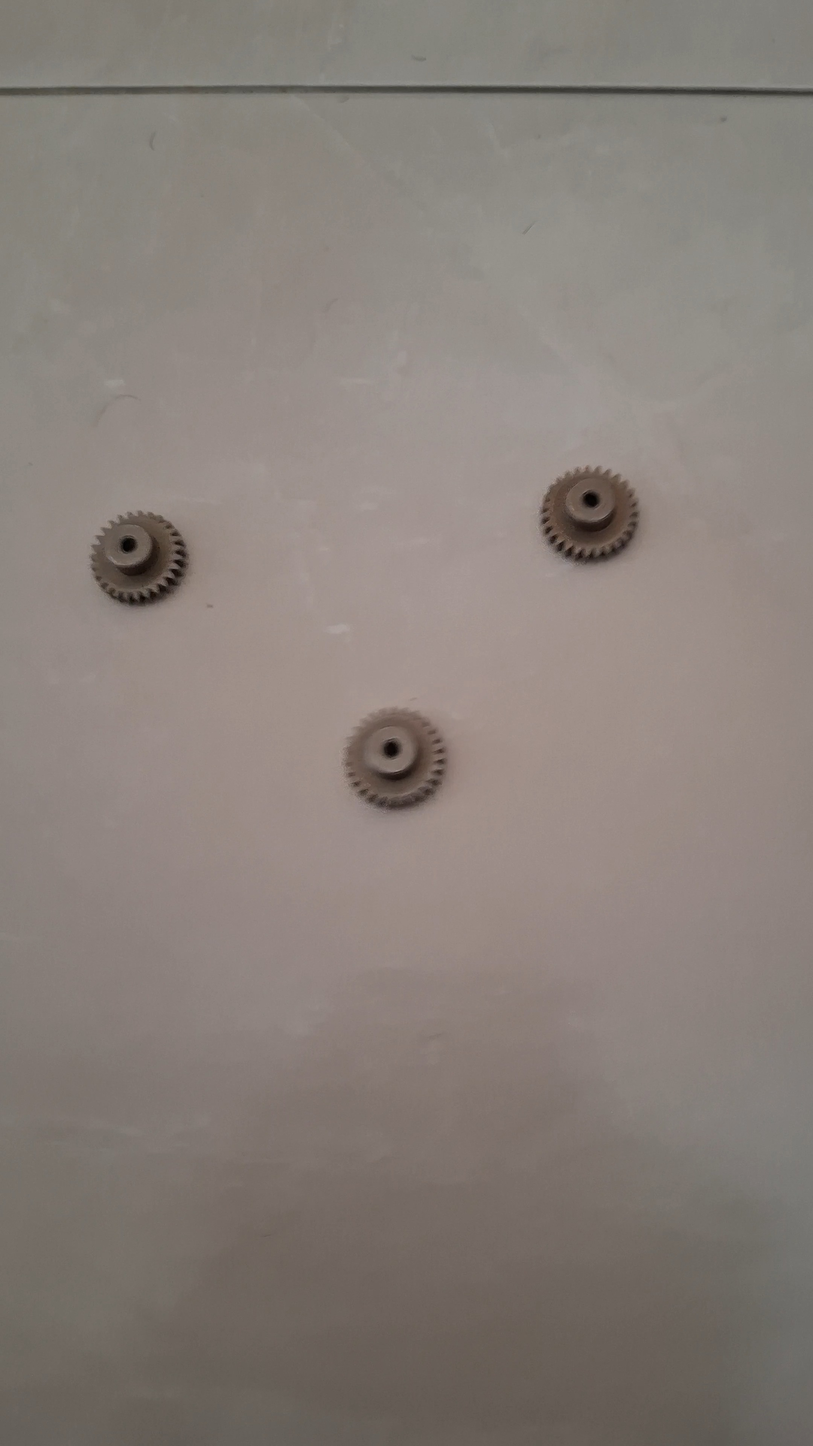spur gear: (344, 709, 446, 808), (540, 468, 638, 560), (91, 512, 187, 604)
